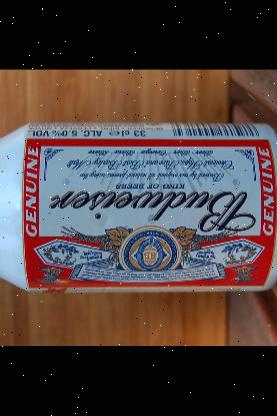Can: (0, 110, 277, 297)
